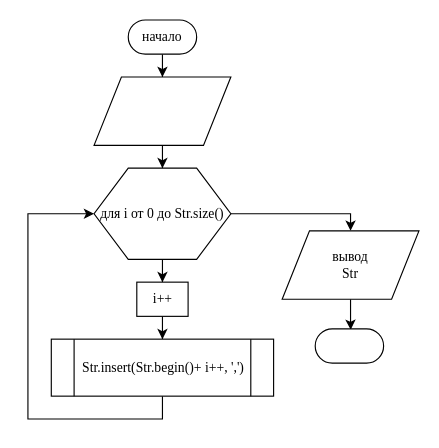
The diagram is 439 pixels wide and 448 high, and some of its shapes have lost their labels. Here are the shapes that lost their labels. From the top down, the centre of each, then its label:
At (162,110): "ввод Str sym".
At (349,345): "конец".
